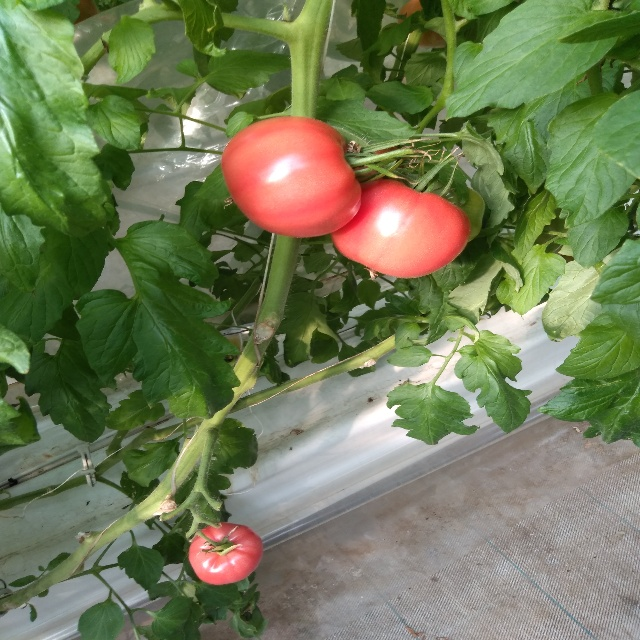b_fully_ripened: (222, 116, 362, 238), (331, 179, 471, 278), (188, 522, 264, 584)
